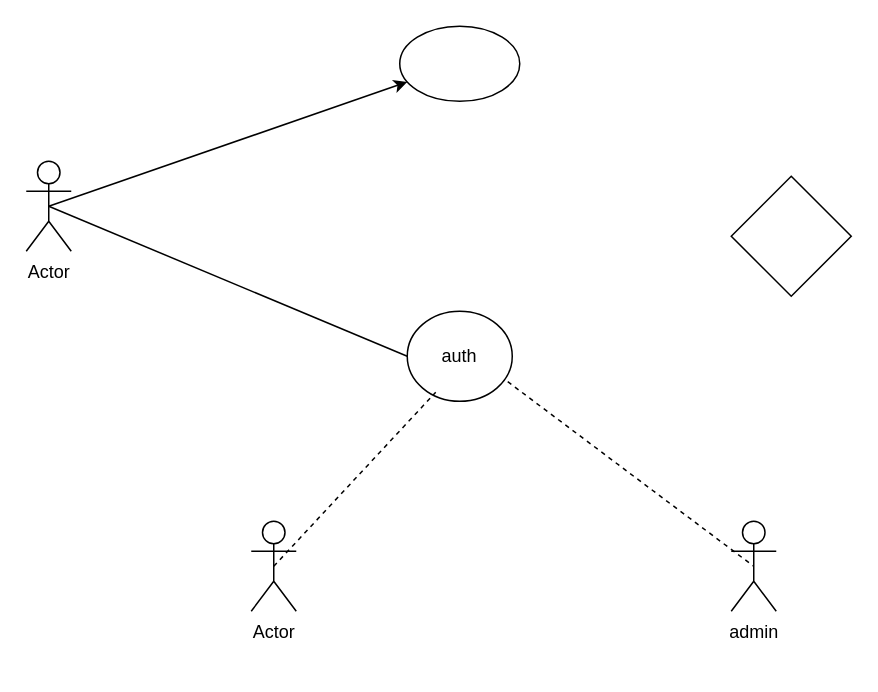
Some shapes in this 878 by 692 pixel diagram are drawn without their labels. Here are the shapes that lost their labels. From the top down, the box of each, then its label:
(398, 25, 520, 101): reg
(730, 175, 851, 296): server
